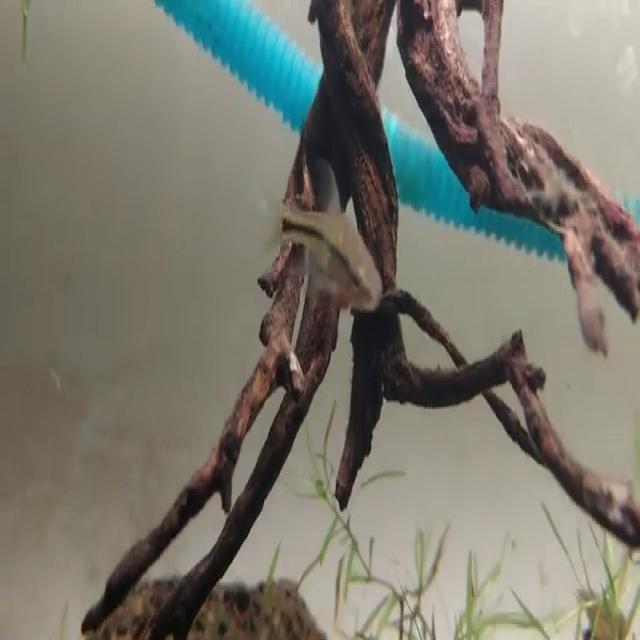Cakil Baligi: (258, 170, 386, 316)
